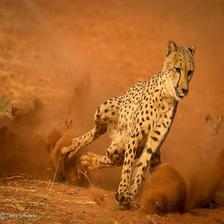Cheetah: (58, 40, 197, 210)
